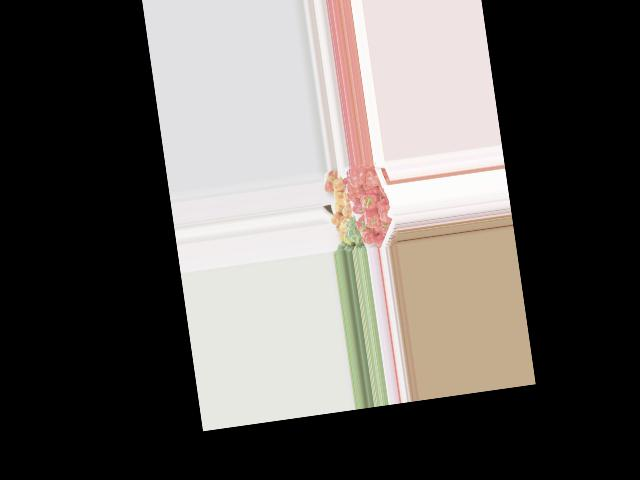bell_pepper: (376, 197, 393, 223)
